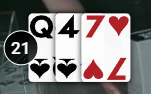4: (55, 13, 82, 42)
7: (82, 12, 107, 42)
q: (28, 13, 56, 41)
